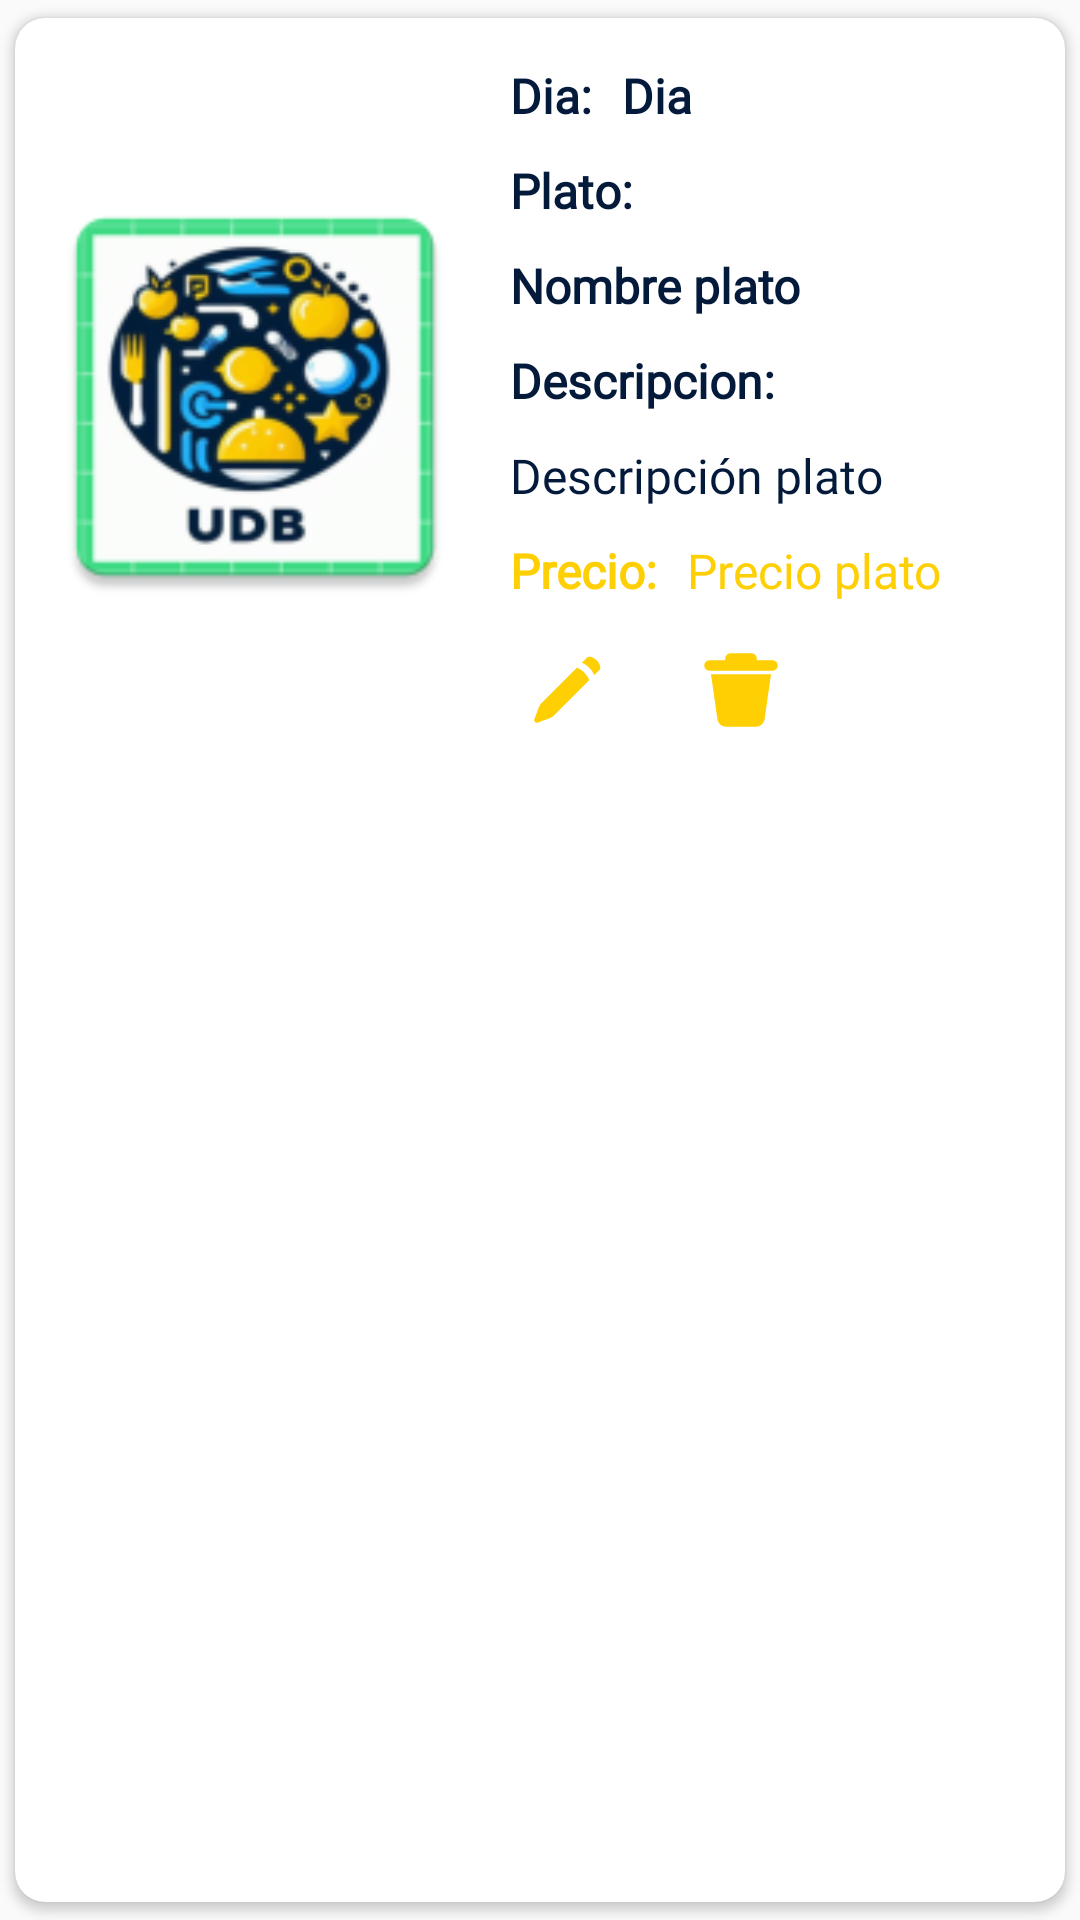

Named icons in this screenshot (1080 x 1920) and their centers, (x=x, y=y):
borrar: (x=741, y=690)
editar: (x=567, y=689)
